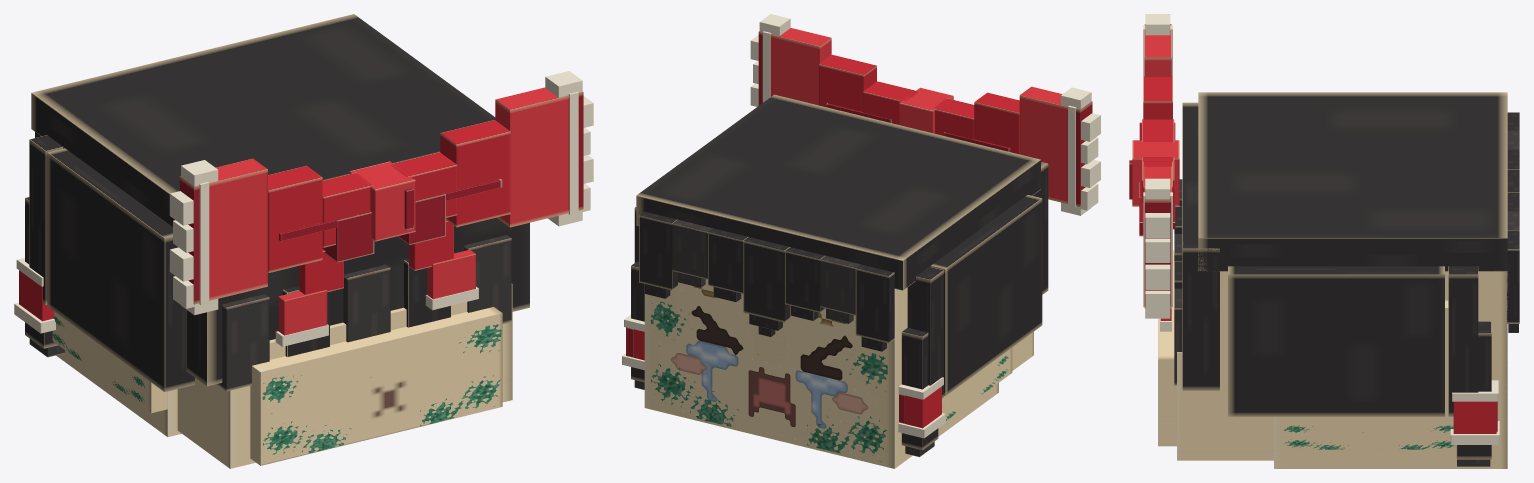
File: mold_reimu_2.obj
The picture shows the model from 3 angles, left to right: view 1: azimuth 30°, elevation 25°; view 2: azimuth 150°, elevation 25°; view 3: azimuth 270°, elevation 25°; orthographic projection. The views are drawn at different scales.
Parts seen in each view (by area): view 1: mold_reimu_2; view 2: mold_reimu_2; view 3: mold_reimu_2.
Boxes of the visible parts, x1=… form: mold_reimu_2: x1=14, y1=14, x2=593, y2=468; mold_reimu_2: x1=622, y1=14, x2=1100, y2=468; mold_reimu_2: x1=1129, y1=14, x2=1519, y2=468.
Size of the model in its own units: 16.28 by 12.24 by 14.49.
1 material, 1 textured.
